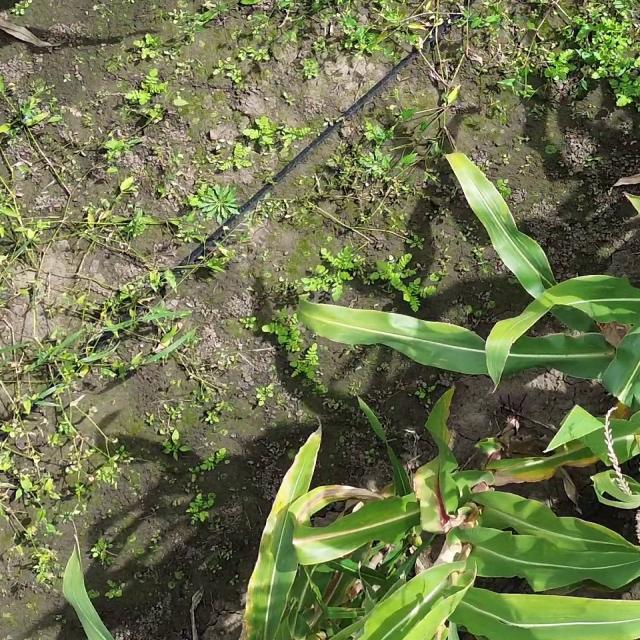northern-leaf-blight: (258, 490, 390, 557), (482, 452, 632, 487)
